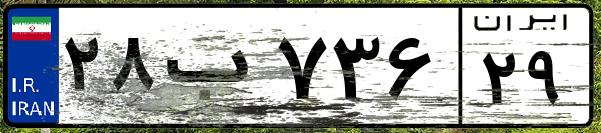2: (57, 26, 110, 100), (475, 38, 525, 113)
3: (330, 28, 385, 110)
6: (385, 28, 445, 110)
7: (270, 28, 330, 110)
8: (110, 28, 158, 98)
9: (525, 38, 570, 115)
ب: (158, 20, 270, 120)
